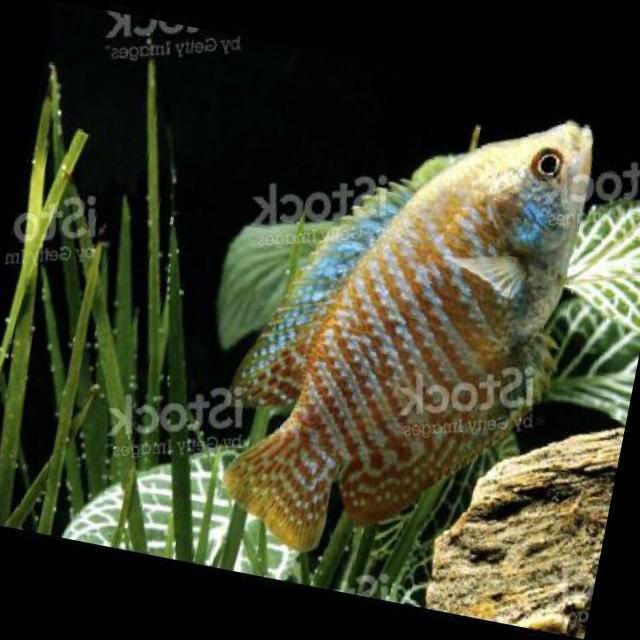Gourami: (208, 67, 600, 578)
